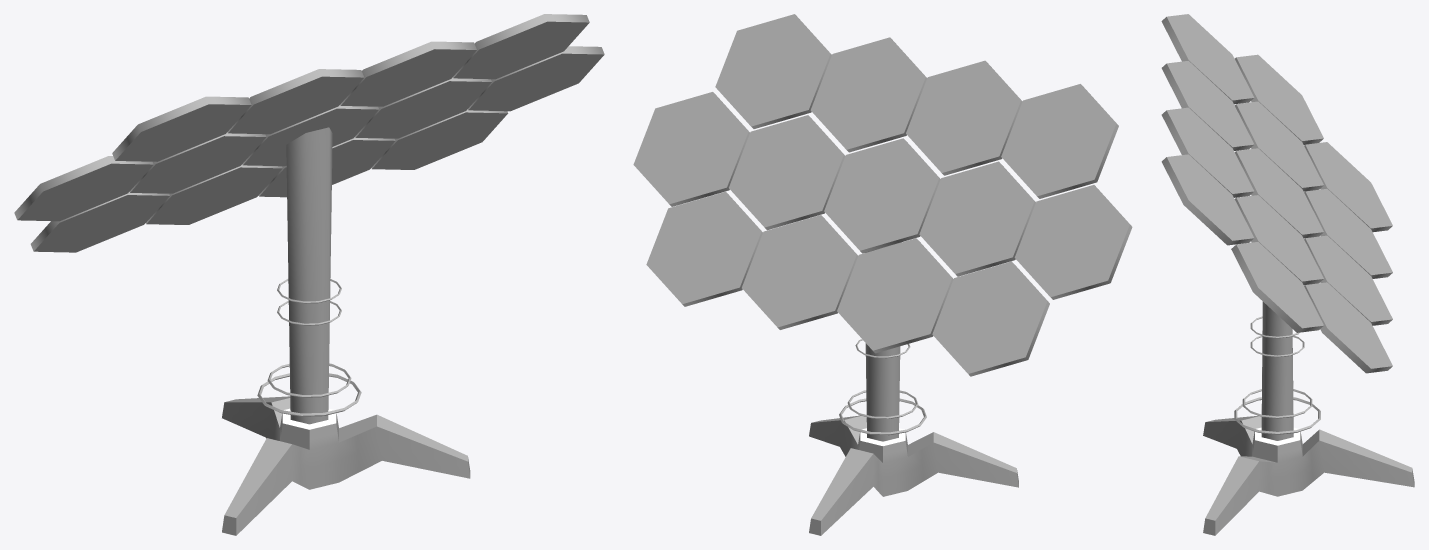
Rendered from KF_Kalonji_SM_Roof_SolarPanel_02.fbx.
3 views of the same model, side by side, from view 1: azimuth 30°, elevation 25°; view 2: azimuth 150°, elevation 25°; view 3: azimuth 270°, elevation 25° (orthographic). The views are drawn at different scales.
Parts seen in each view (by area): view 1: Panel008, Stand, Steel, Circle; view 2: Panel008, Stand, Steel, Circle; view 3: Panel008, Stand, Steel, Circle.
Boxes of the visible parts, x1,y1,x2,y2 form: Panel008: (14,14,604,252); Stand: (222,396,470,535); Steel: (286,127,332,424); Circle: (257,279,361,416); Panel008: (633,14,1132,376); Stand: (809,415,1018,535); Steel: (865,242,901,441); Circle: (839,339,926,435); Panel008: (1161,14,1392,373); Stand: (1203,415,1414,535); Steel: (1261,301,1293,440); Circle: (1234,316,1320,434).
Bounding box in the file's own units: 215 × 171 × 98.44.
